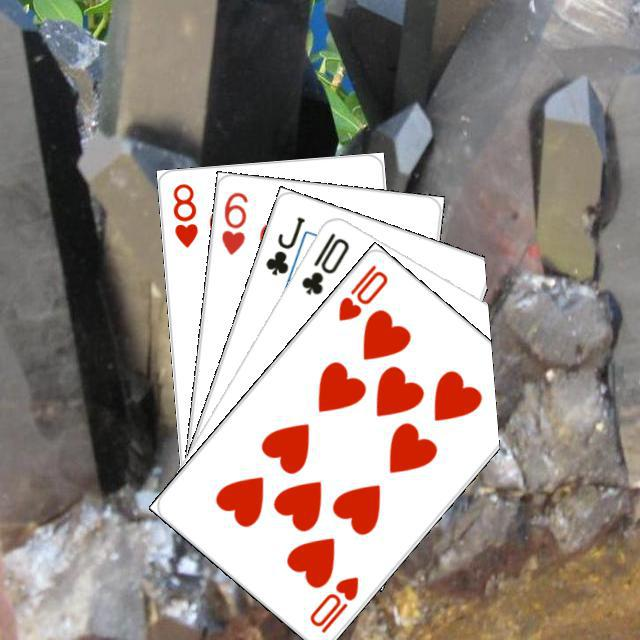10c: (296, 227, 351, 297)
10h: (333, 259, 390, 323), (304, 571, 361, 635)
6h: (216, 187, 250, 257)
8h: (168, 178, 200, 249)
Jc: (260, 211, 307, 277)
